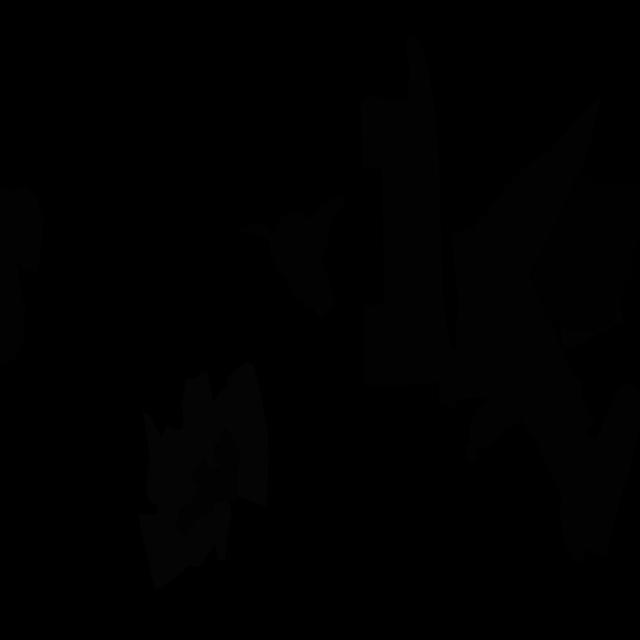cardboard: (361, 35, 600, 509), (557, 382, 640, 563), (238, 195, 347, 317), (0, 185, 44, 364), (176, 429, 240, 537), (560, 303, 625, 350)
rigid_plastic: (532, 172, 640, 331)
soft_plastic: (138, 361, 269, 589)
